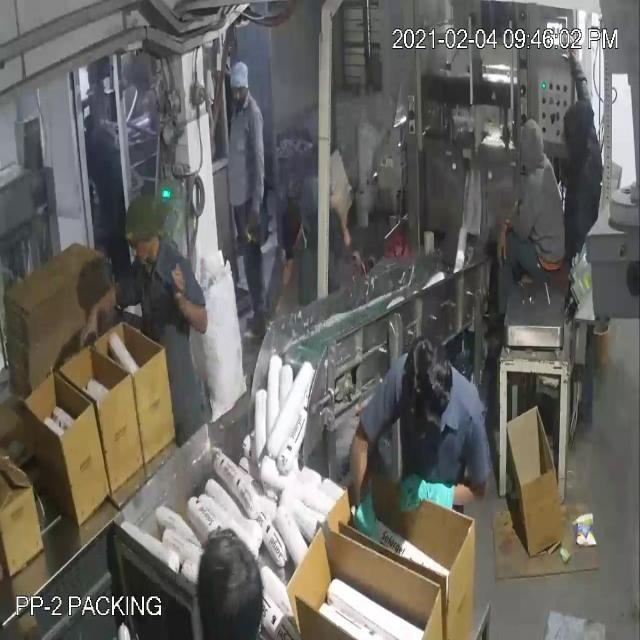No_Gloves: (22, 53, 576, 512)
